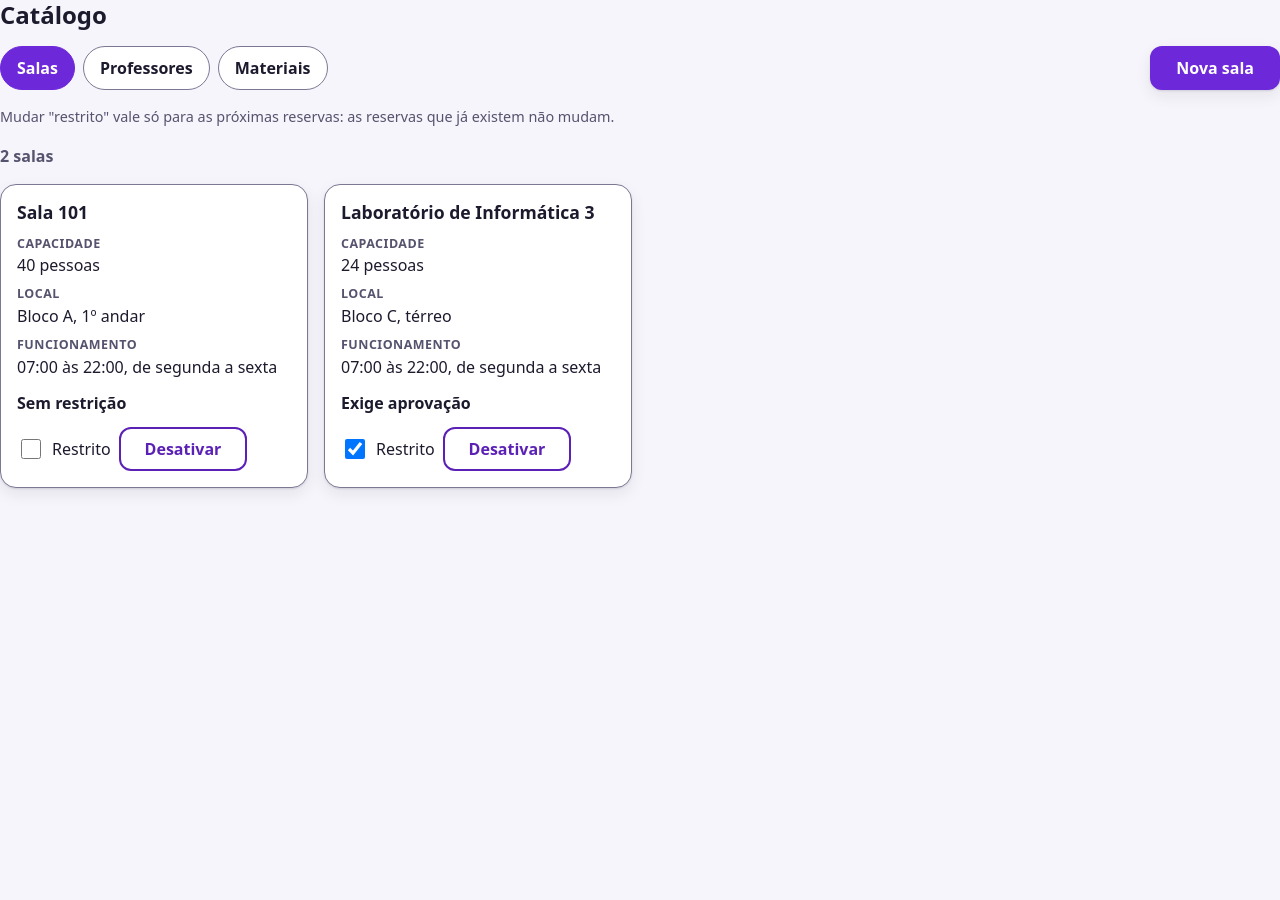
Test case: PaginaDoCatalogo: diálogo de cadastro › Escape fecha o diálogo, devolve o foco ao botão e não envia nada
Click the button "Nova sala". click: point(1215, 68)
box: left=1150, top=46, right=1279, bottom=90
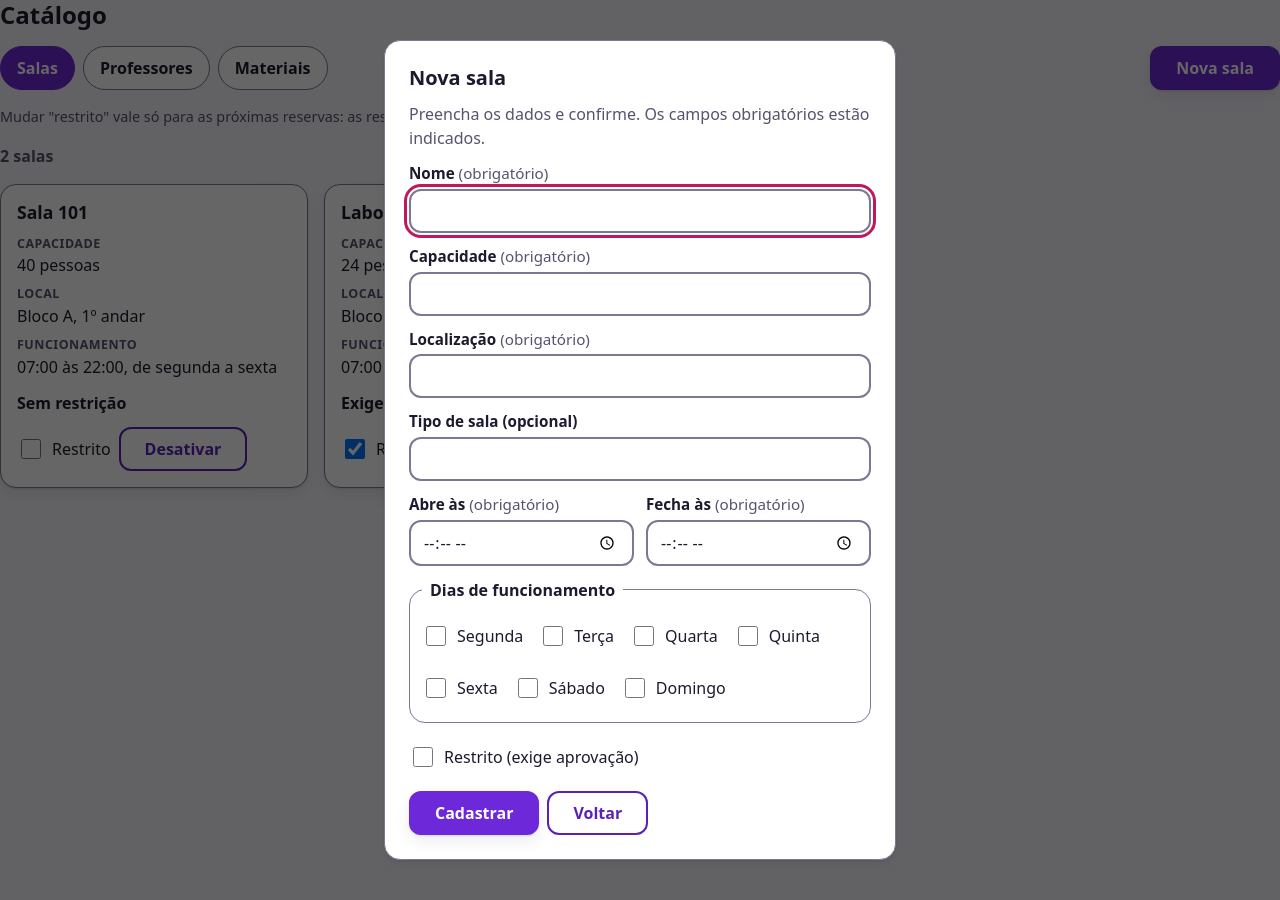
Press Escape
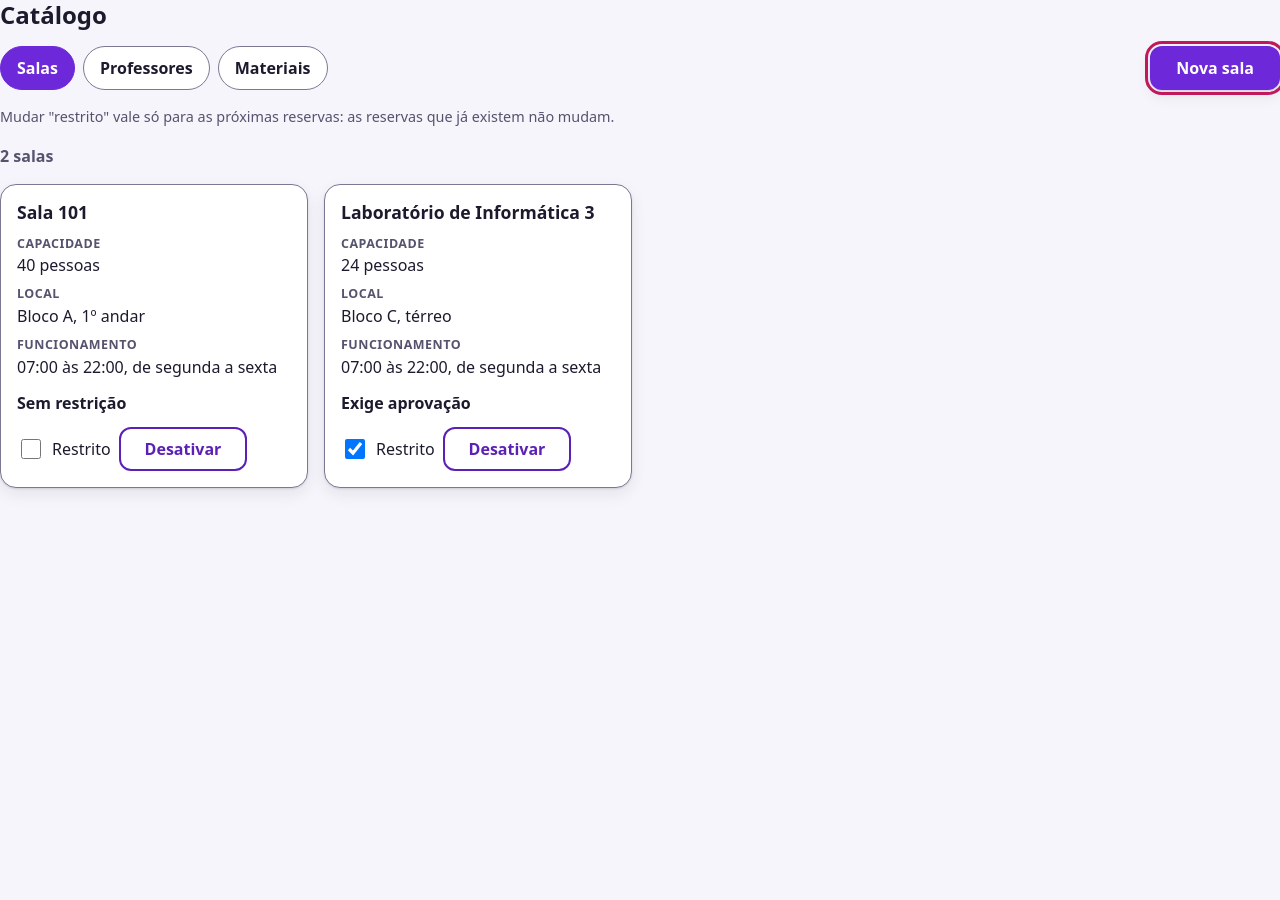
Check: the dialog is gone
